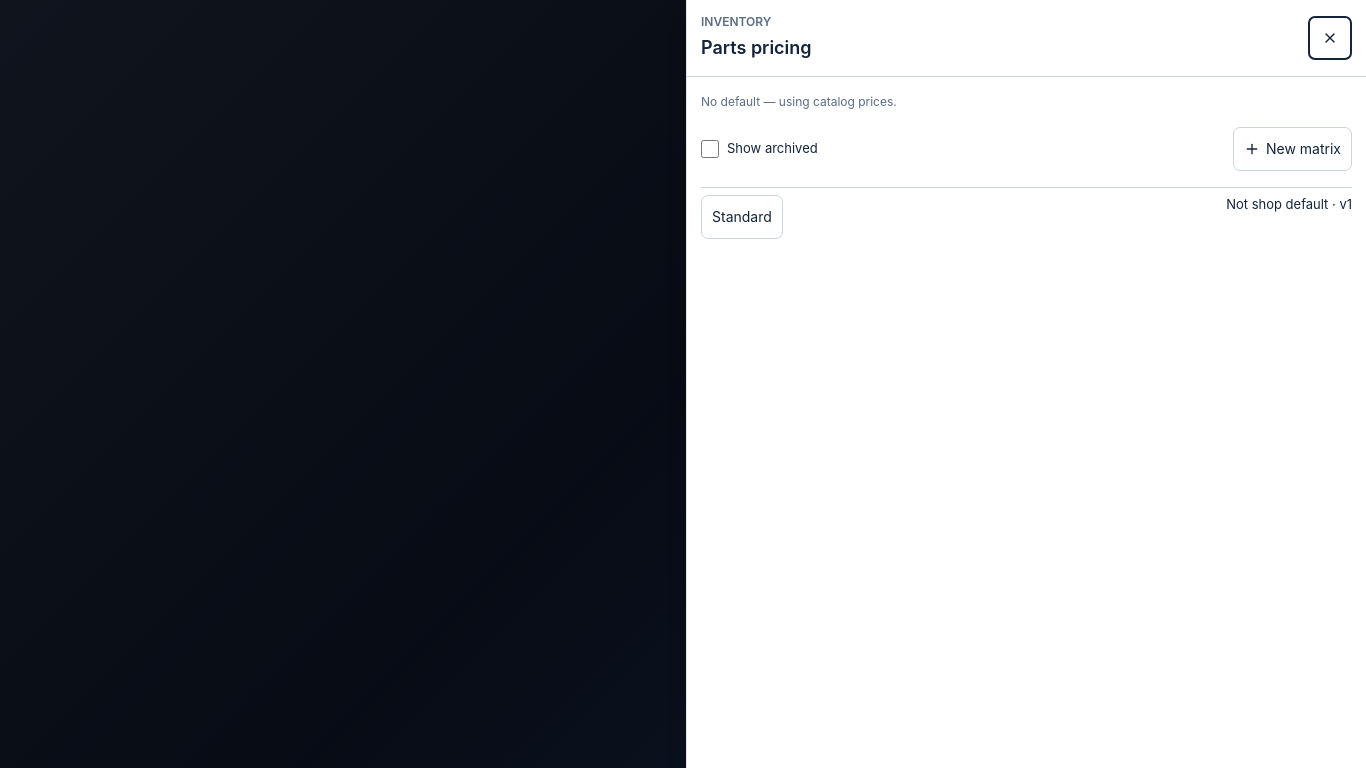
Test: private parts pricing configuration › labels an unarchived matrix by shop-default status without claiming it is unused
Expected: the text "Not shop default · v1" is shown, [1226,195,1352,214]
Click the button "Standard" at (742, 217), box [701,195,783,239]
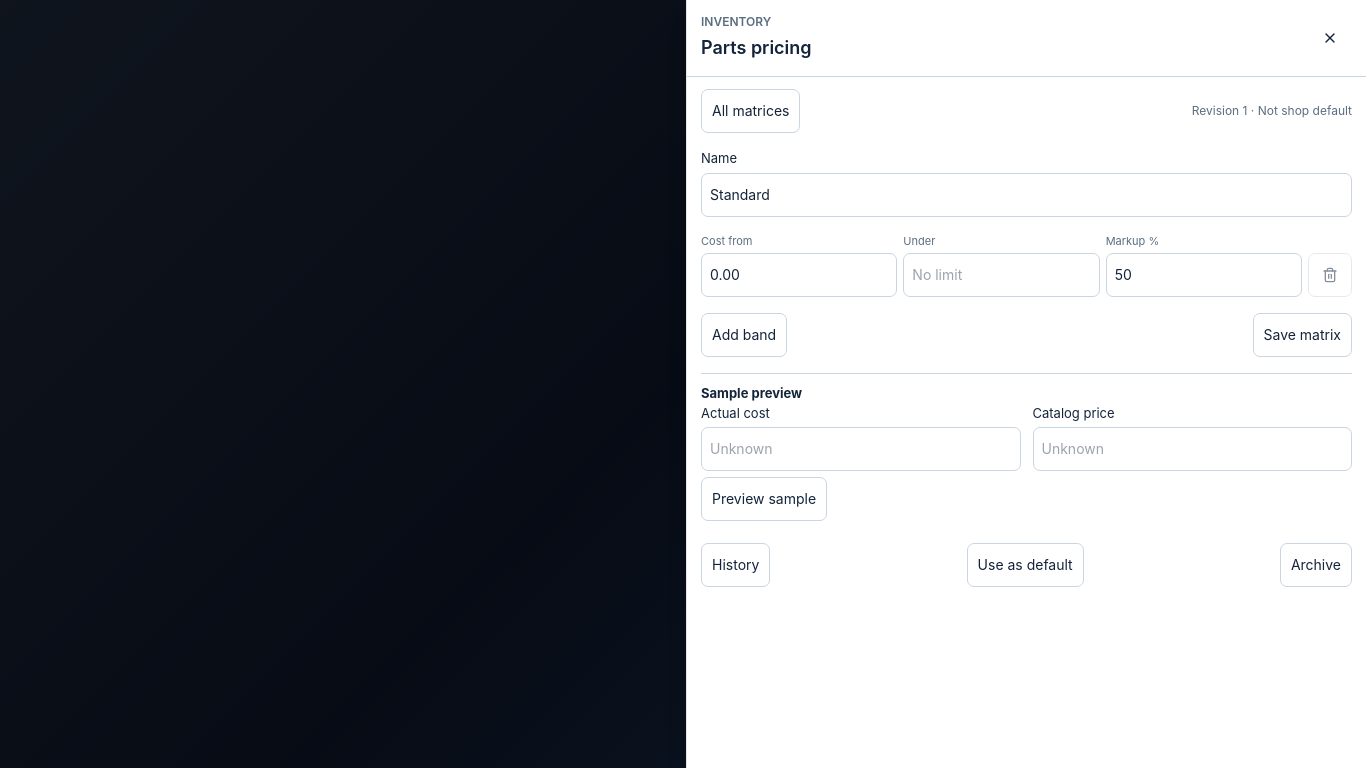
Now the text "Revision 1 · Not shop default" is shown, box [1192,102,1352,120]
